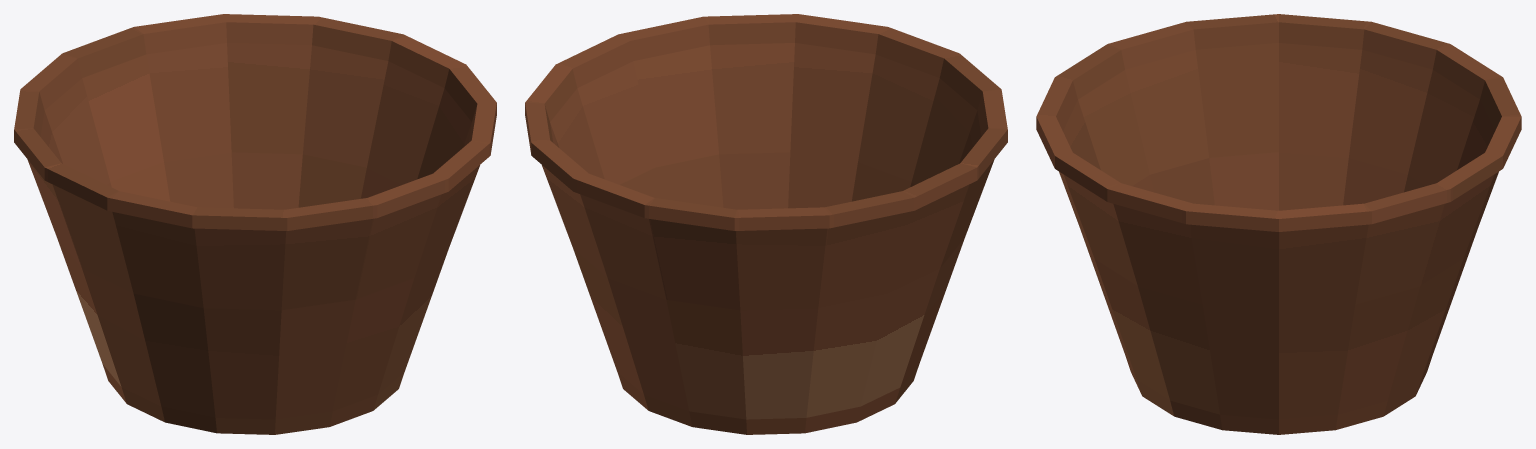
File: vessel-terra.glb
The picture shows the model from 3 angles, left to right: view 1: azimuth 30°, elevation 25°; view 2: azimuth 150°, elevation 25°; view 3: azimuth 270°, elevation 25°; orthographic projection.
Visible parts, largest first — view 1: vessel-terra/complete-inner-outer-shell-with-drainage; view 2: vessel-terra/complete-inner-outer-shell-with-drainage; view 3: vessel-terra/complete-inner-outer-shell-with-drainage.
Boxes of the visible parts, bbox=[...] form: vessel-terra/complete-inner-outer-shell-with-drainage: bbox=[14, 14, 496, 434]; vessel-terra/complete-inner-outer-shell-with-drainage: bbox=[525, 14, 1007, 434]; vessel-terra/complete-inner-outer-shell-with-drainage: bbox=[1036, 14, 1521, 434].
Bounding box in the file's own units: 0.3368 × 0.207 × 0.3368.
Materials: 1 (1 with a texture image).
